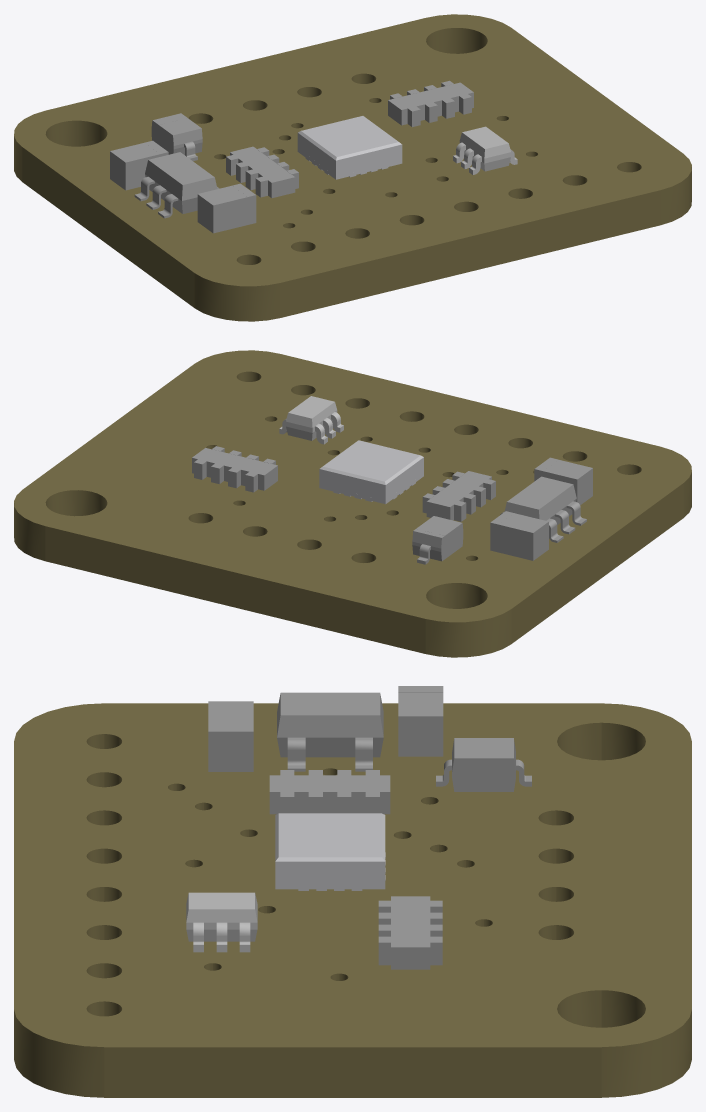
Rendered from ada-4022.glb.
The picture shows the model from 3 angles, top to bottom: view 1: azimuth 30°, elevation 25°; view 2: azimuth 150°, elevation 25°; view 3: azimuth 270°, elevation 25°; orthographic projection. The views are drawn at different scales.
Visible parts, largest first — view 1: 0.16666666666666666_0.16666666666666666_0.08333333333333333_, 0.3333333333333333_0.3333333333333333_0.3333333333333333_0, 0.5833333333333334_0.5833333333333334_0.5833333333333334_0.8, 0.5_0.5_0.5_0.85; view 2: 0.16666666666666666_0.16666666666666666_0.08333333333333333_, 0.3333333333333333_0.3333333333333333_0.3333333333333333_0, 0.5833333333333334_0.5833333333333334_0.5833333333333334_0.8, 0.5_0.5_0.5_0.85; view 3: 0.16666666666666666_0.16666666666666666_0.08333333333333333_, 0.3333333333333333_0.3333333333333333_0.3333333333333333_0, 0.5833333333333334_0.5833333333333334_0.5833333333333334_0.8, 0.5_0.5_0.5_0.85.
Part boxes in pixels (x1,y1,x2,y2): 0.16666666666666666_0.16666666666666666_0.08333333333333333_: [14, 14, 691, 321]; 0.3333333333333333_0.3333333333333333_0.3333333333333333_0: [110, 80, 473, 233]; 0.5833333333333334_0.5833333333333334_0.5833333333333334_0.8: [297, 116, 402, 179]; 0.5_0.5_0.5_0.85: [453, 126, 517, 174]; 0.16666666666666666_0.16666666666666666_0.08333333333333333_: [14, 350, 691, 657]; 0.3333333333333333_0.3333333333333333_0.3333333333333333_0: [192, 446, 592, 564]; 0.5833333333333334_0.5833333333333334_0.5833333333333334_0.8: [319, 440, 423, 504]; 0.5_0.5_0.5_0.85: [279, 396, 343, 444]; 0.16666666666666666_0.16666666666666666_0.08333333333333333_: [14, 703, 691, 1097]; 0.3333333333333333_0.3333333333333333_0.3333333333333333_0: [208, 686, 531, 969]; 0.5833333333333334_0.5833333333333334_0.5833333333333334_0.8: [275, 813, 385, 890]; 0.5_0.5_0.5_0.85: [186, 892, 257, 952].
Bounding box in the file's own units: 2.29 × 0.297 × 1.91.
